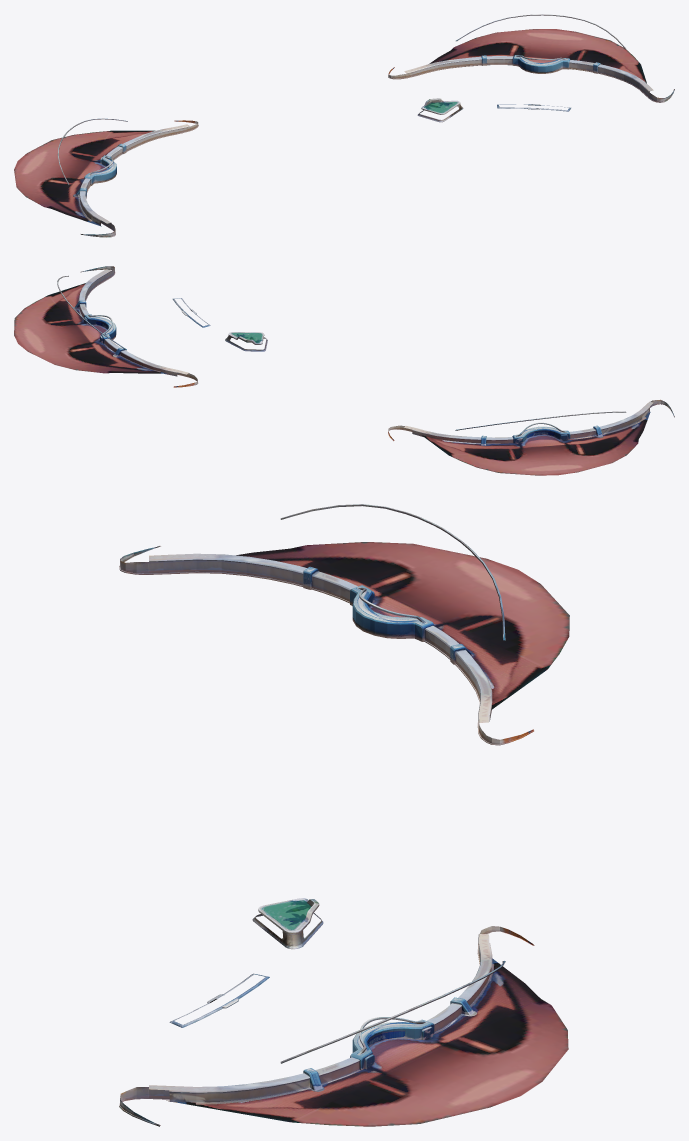
File: pref_sm_beach_winter_bakegroups06_lv0.fbx
3 views of the same model, one above another, from view 1: azimuth 30°, elevation 25°; view 2: azimuth 150°, elevation 25°; view 3: azimuth 270°, elevation 25° (orthographic). The views are drawn at different scales.
Parts seen in each view (by area): view 1: sm_beach_winter_bakegroups06_a_lv0, sm_beach_winter_bakegroups06_c_lv0, sm_beach_winter_bakegroups06_b_lv0; view 2: sm_beach_winter_bakegroups06_c_lv0, sm_beach_winter_bakegroups06_a_lv0, sm_beach_winter_bakegroups06_b_lv0; view 3: sm_beach_winter_bakegroups06_a_lv0, sm_beach_winter_bakegroups06_c_lv0, sm_beach_winter_bakegroups06_b_lv0.
Part boxes in pixels (<box>): sm_beach_winter_bakegroups06_a_lv0: <box>388,14,674,102</box>; sm_beach_winter_bakegroups06_c_lv0: <box>14,118,198,237</box>; sm_beach_winter_bakegroups06_b_lv0: <box>417,98,570,122</box>; sm_beach_winter_bakegroups06_c_lv0: <box>388,399,674,475</box>; sm_beach_winter_bakegroups06_a_lv0: <box>14,266,198,387</box>; sm_beach_winter_bakegroups06_b_lv0: <box>172,298,267,351</box>; sm_beach_winter_bakegroups06_a_lv0: <box>119,926,568,1126</box>; sm_beach_winter_bakegroups06_c_lv0: <box>119,504,569,745</box>; sm_beach_winter_bakegroups06_b_lv0: <box>169,898,323,1027</box>.
Bounding box in the file's own units: 134 × 8.3 × 43.67.
1 material, 1 textured.
